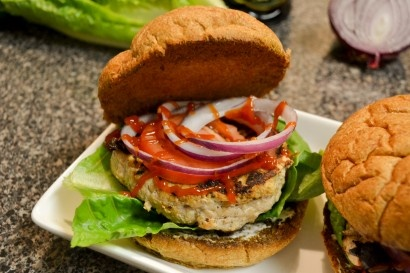background: (0, 0, 263, 116), (53, 0, 262, 30)
